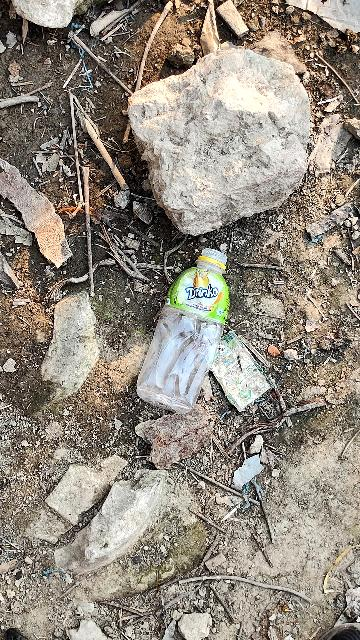bottle: (129, 236, 255, 425)
